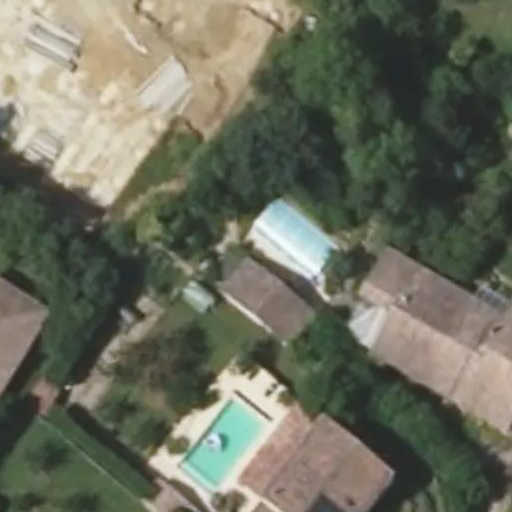pool: (211, 239, 300, 243)
